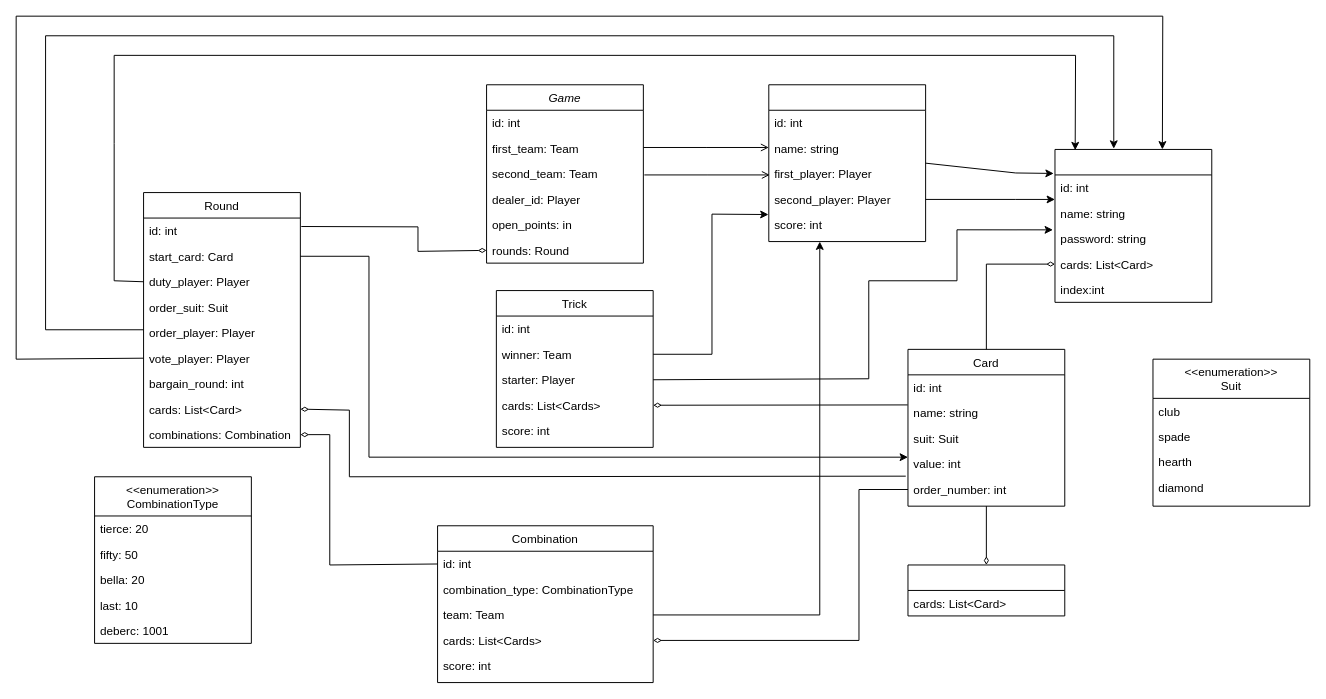
This 1326x699 diagram has some shape labels left out. The shapes that lost their labels are listed below. From the top down, each one's box as (x1, y1, x2, y2) in pixels, then its label:
(768, 84, 926, 242): Team
(1054, 148, 1212, 302): Player
(907, 564, 1065, 616): Deck
